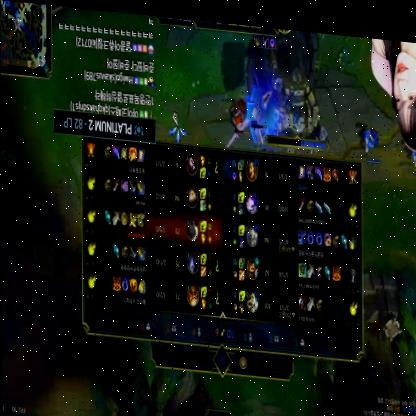streamer: (360, 29, 416, 144)
